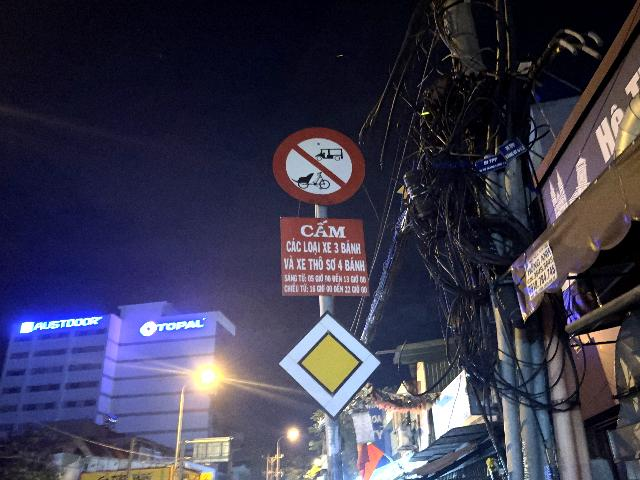bat-dau-duong-uu-tien: (279, 312, 384, 422)
cam-xe-3-banh-xe-tho-so-4-banh: (272, 126, 366, 206)
